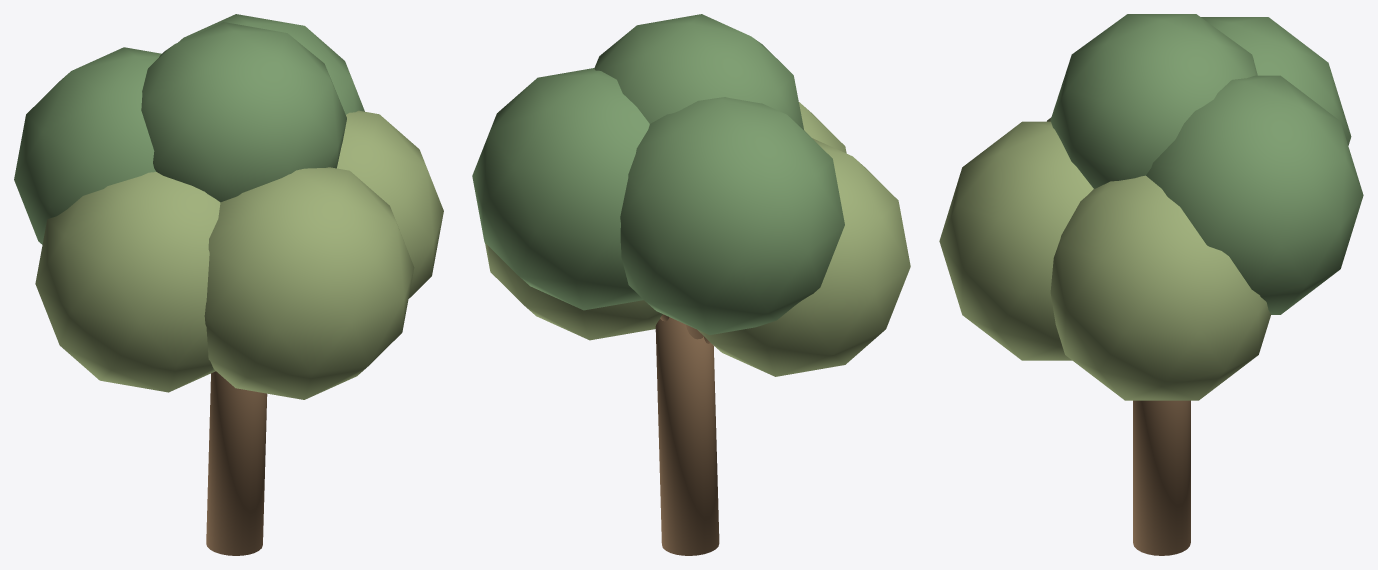
Rendered from tree.glb.
3 renders of one model, left to right at view 1: azimuth 30°, elevation 25°; view 2: azimuth 150°, elevation 25°; view 3: azimuth 270°, elevation 25°, orthographic.
Parts seen in each view (by area): view 1: tree_textured_mesh; view 2: tree_textured_mesh; view 3: tree_textured_mesh.
Part boxes in pixels (bbox=[...]): tree_textured_mesh: bbox=[14, 14, 443, 555]; tree_textured_mesh: bbox=[472, 14, 910, 555]; tree_textured_mesh: bbox=[939, 14, 1363, 555].
Bounding box in the file's own units: 3.26 × 4.2 × 3.08.
1 material, 1 textured.
